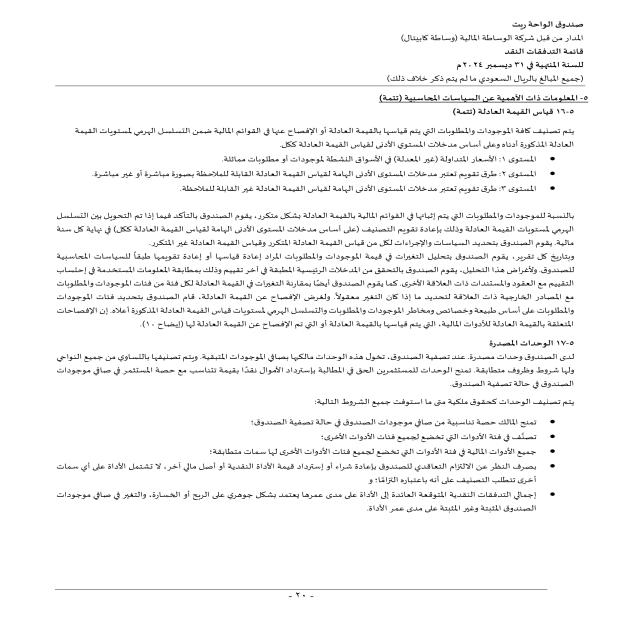financial_sheets: (494, 43, 591, 56)
